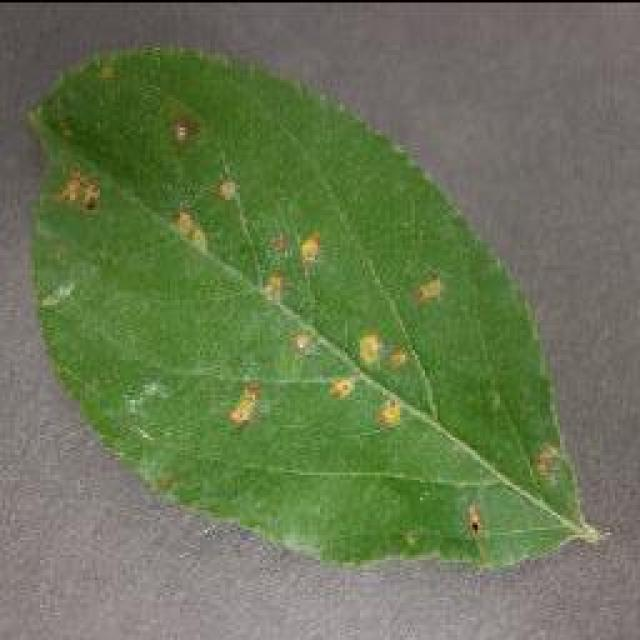apple cedar apple rust: (22, 40, 602, 572)
